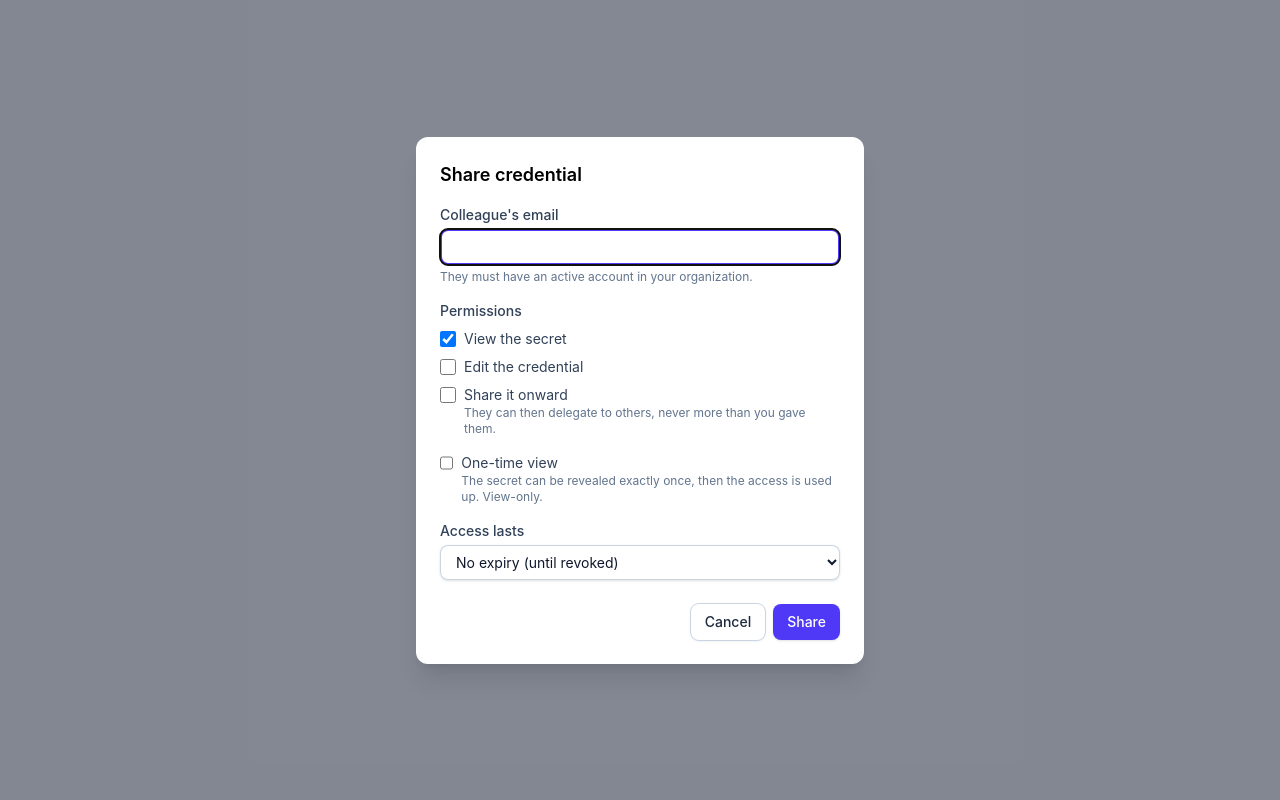
Test: ShareDialog › explains the backend rule exceeds_upstream_lifetime
In the field labelled "Colleague's email": [640, 246] box [440,228,840,264], type "bob@acme.example"
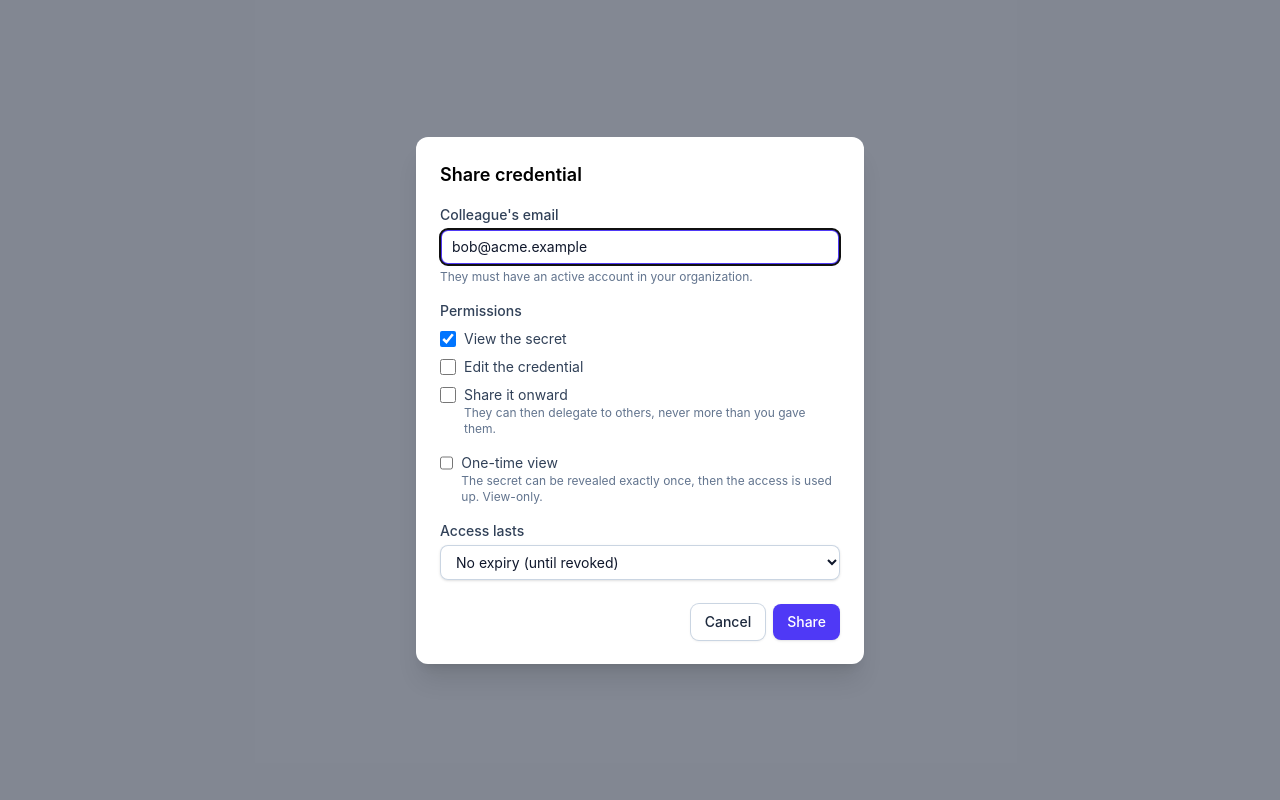
Click the button "Share": [807, 622] box [773,604,840,640]
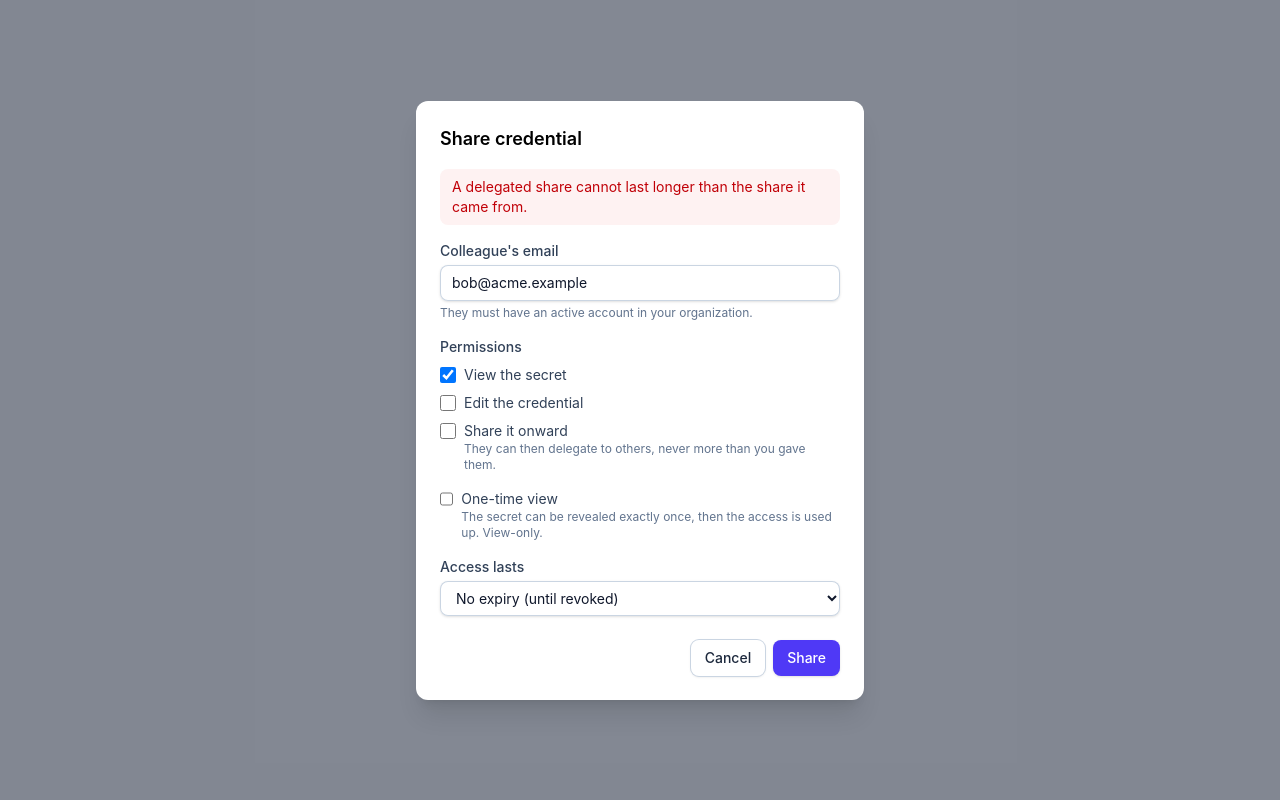
Check: the message shows "longer than the share it came from", box [452,178,805,214]
